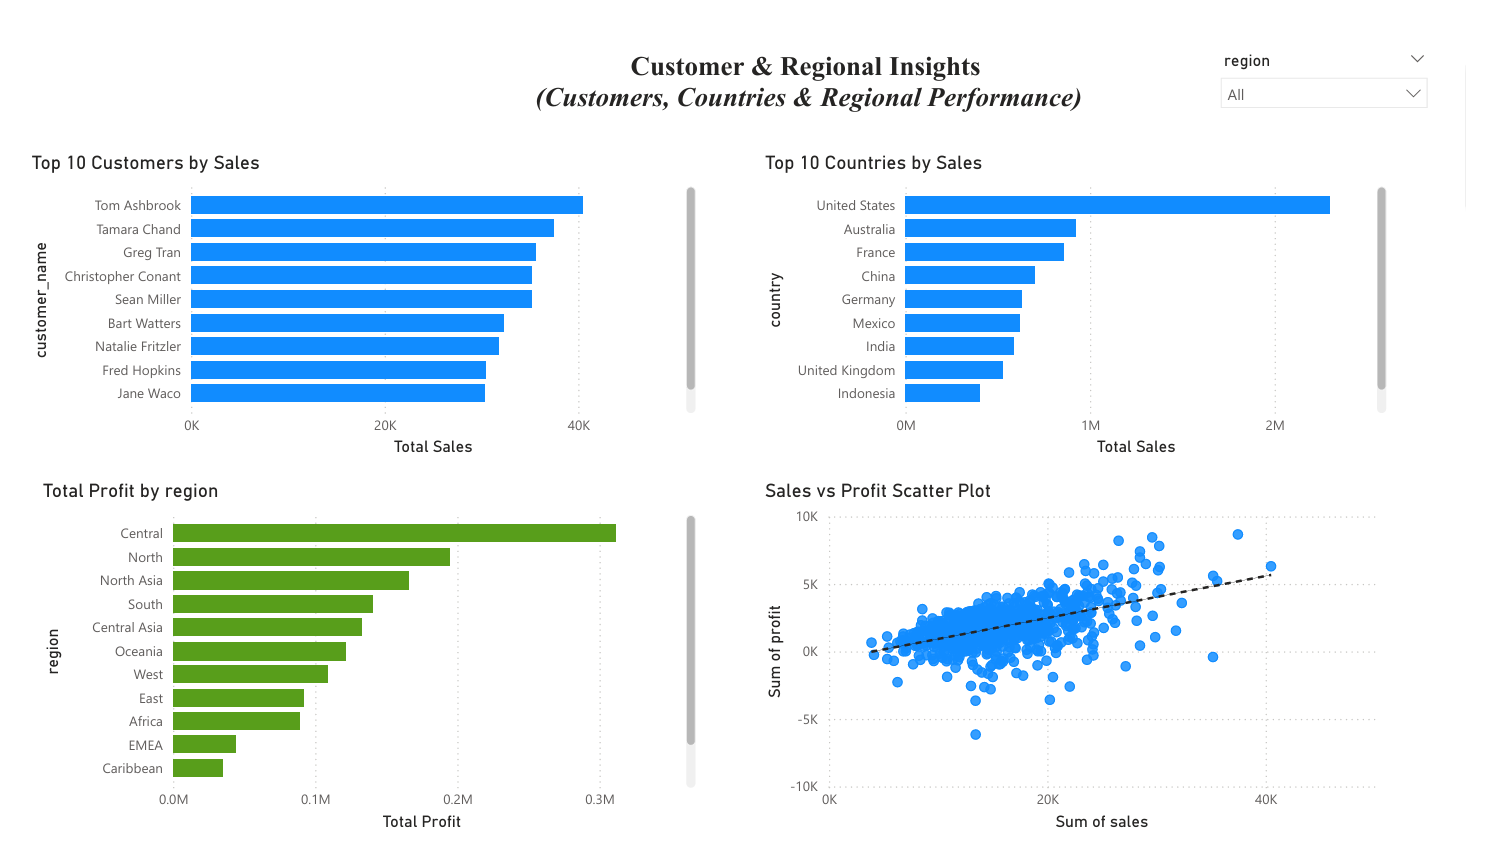

The page's visual inventory and layout, read from the dashboard file:
{"tool":"powerbi","page":{"name":"Customer & Regional Analysis","canvas":[1280,720],"ordinal":2},"visuals":[{"type":"clusteredBarChart","title":"Top 10 Customers by Sales","fields":{"Category":["SuperStoreOrders.customer_name"],"Y":["SuperStoreOrders.Total Sales"]},"box":[0,111.1,599.7,275.8],"z":0},{"type":"clusteredBarChart","title":"Top 10 Countries by Sales","fields":{"Category":["SuperStoreOrders.country"],"Y":["SuperStoreOrders.Total Sales"]},"box":[651.8,111.1,562.6,275.8],"z":1},{"type":"clusteredBarChart","fields":{"Category":["SuperStoreOrders.region"],"Y":["SuperStoreOrders.Total Profit"]},"box":[9.6,403.4,590.1,317],"z":2},{"type":"scatterChart","title":"Sales vs Profit Scatter Plot","fields":{"X":["Sum(SuperStoreOrders.sales)"],"Y":["Sum(SuperStoreOrders.profit)"],"Category":["SuperStoreOrders.customer_name"]},"box":[651.8,403.4,562.6,317],"z":3},{"type":"textbox","box":[430.9,17.8,524.2,67.2],"z":4},{"type":"slicer","fields":{"Values":["SuperStoreOrders.region"]},"box":[1051.6,18.3,204.2,90.5],"z":5}]}

Visuals, with their boxes in screenshot pixels (x1, y1, x2, y2), scaled from the page's 1280x720 canvas onto the 1487x847 screenshot:
"Top 10 Customers by Sales" clusteredBarChart: left=0, top=131, right=697, bottom=455
"Top 10 Countries by Sales" clusteredBarChart: left=757, top=131, right=1411, bottom=455
clusteredBarChart - SuperStoreOrders.region x SuperStoreOrders.Total Profit: left=11, top=475, right=697, bottom=846
"Sales vs Profit Scatter Plot" scatterChart: left=757, top=475, right=1411, bottom=846
textbox: left=501, top=21, right=1110, bottom=100
slicer - SuperStoreOrders.region: left=1222, top=22, right=1459, bottom=128
